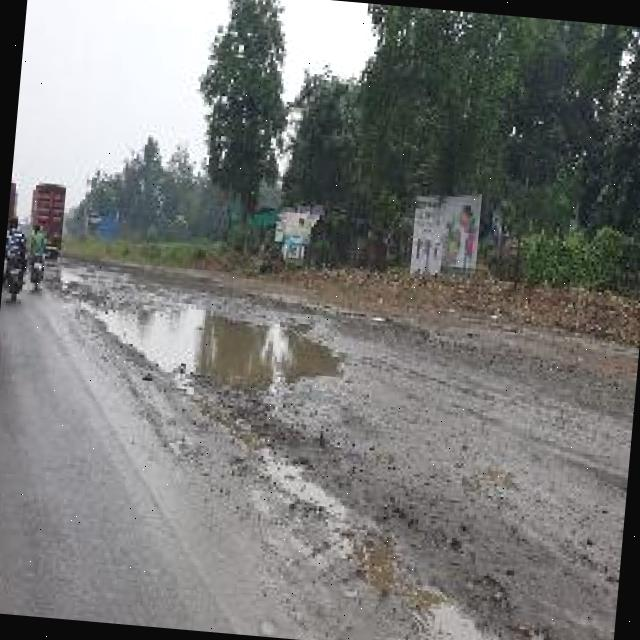stagnation: (94, 292, 322, 405)
